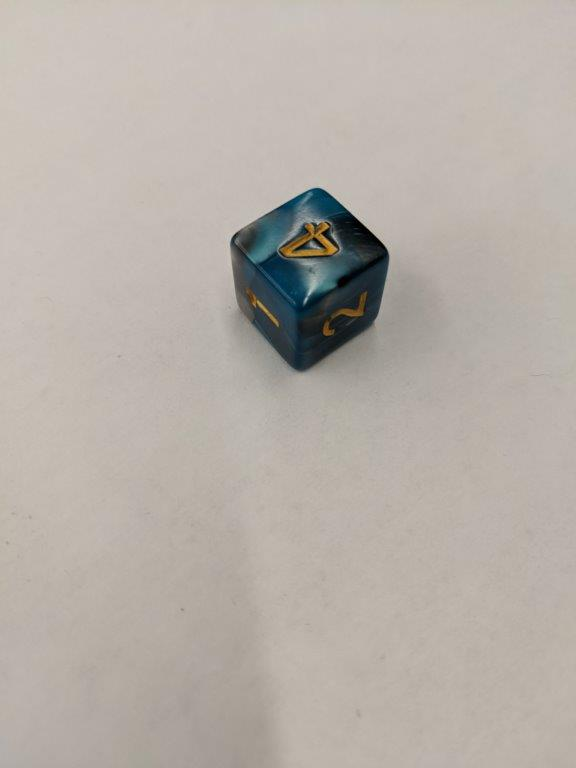d6-4: (232, 182, 392, 374)
